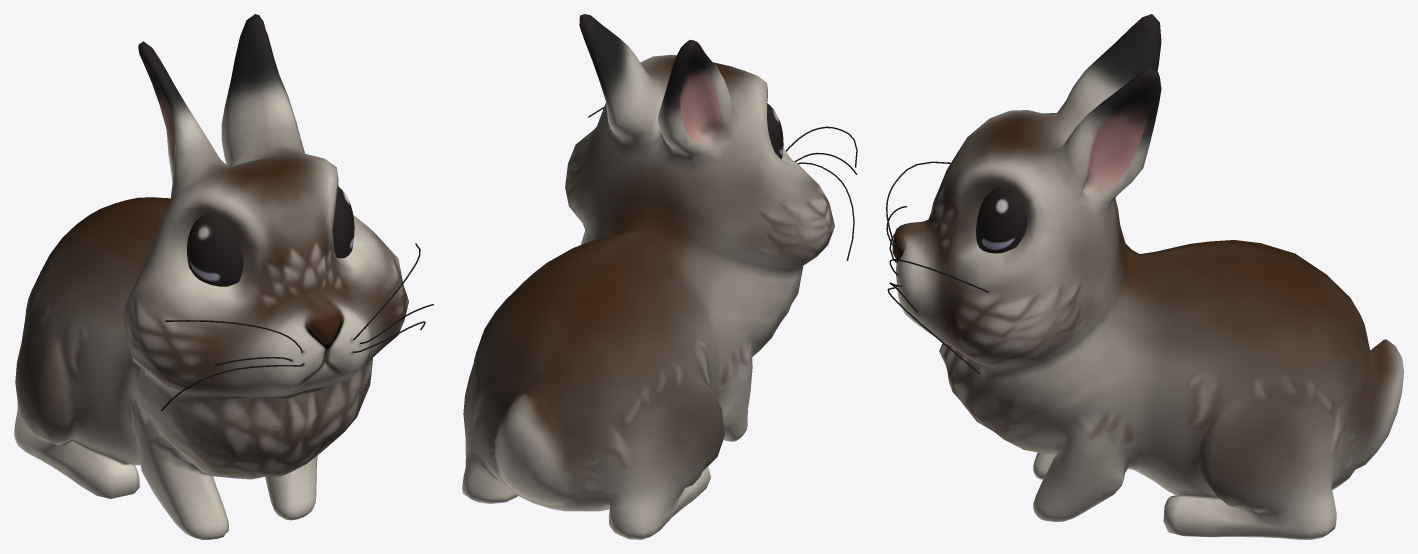
The model's file is bunny.glb.
The picture shows the model from 3 angles, left to right: view 1: azimuth 30°, elevation 25°; view 2: azimuth 150°, elevation 25°; view 3: azimuth 270°, elevation 25°; orthographic projection. The views are drawn at different scales.
Parts seen in each view (by area): view 1: Bunny_Geo, Bunny_Eye_R, Bunny_Eye_L; view 2: Bunny_Geo, Bunny_Eye_R; view 3: Bunny_Geo, Bunny_Eye_L.
Part boxes in pixels (<box>): Bunny_Geo: <box>14,14,408,539</box>; Bunny_Eye_R: <box>187,215,243,286</box>; Bunny_Eye_L: <box>332,186,354,258</box>; Bunny_Geo: <box>462,14,834,539</box>; Bunny_Eye_R: <box>767,103,783,158</box>; Bunny_Geo: <box>892,14,1403,539</box>; Bunny_Eye_L: <box>976,188,1027,253</box>.
Bounding box in the file's own units: 3.49 × 5.72 × 5.89.
3 materials, 2 textured.
